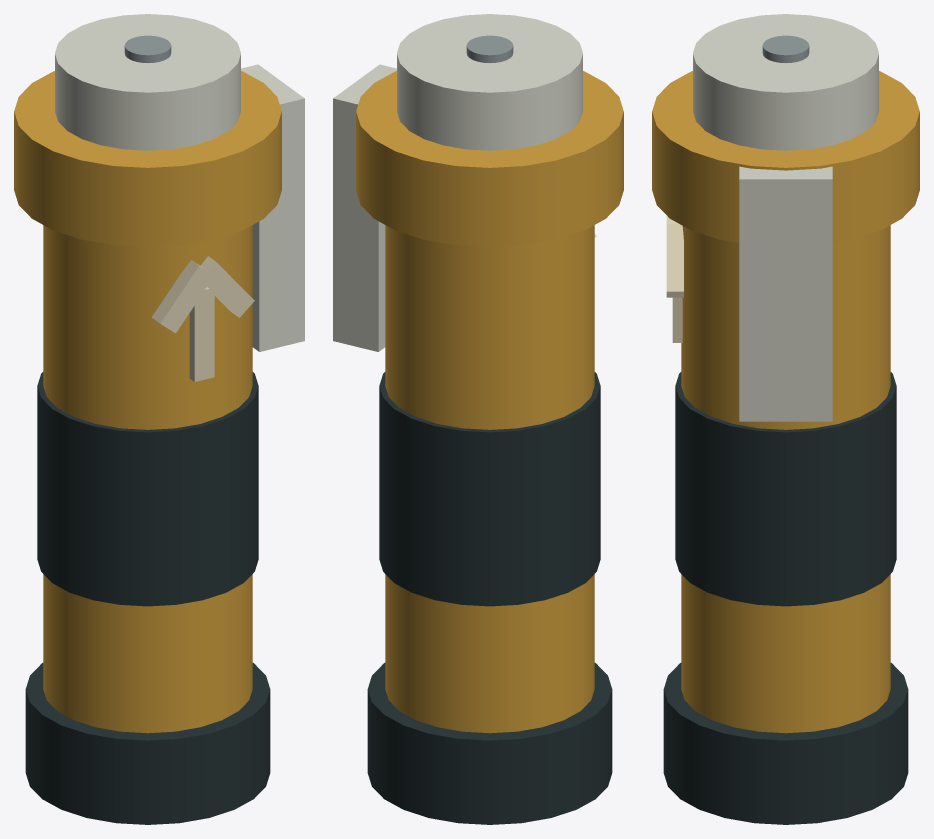
The model's file is FSA_ITEM_Consumable_003_Adrenaline.glb.
3 views of the same model, side by side, from view 1: azimuth 30°, elevation 25°; view 2: azimuth 150°, elevation 25°; view 3: azimuth 270°, elevation 25° (orthographic).
Visible parts, largest first — view 1: InjectorBody, WaistBand, TriggerCollar, BaseCap, ContactHead, SafetyClip, ArrowStem, ArrowLeft, ArrowRight, ContactDot; view 2: InjectorBody, WaistBand, TriggerCollar, BaseCap, ContactHead, SafetyClip, ContactDot; view 3: InjectorBody, WaistBand, BaseCap, SafetyClip, TriggerCollar, ContactHead, ArrowRight, ContactDot, ArrowStem.
Part boxes in pixels (x1,y1,x2,y2): InjectorBody: (43, 225, 252, 733); WaistBand: (37, 372, 258, 606); TriggerCollar: (14, 71, 281, 246); BaseCap: (25, 663, 270, 824); ContactHead: (55, 14, 240, 150); SafetyClip: (241, 64, 304, 351); ArrowStem: (189, 287, 214, 381); ArrowLeft: (151, 260, 214, 333); ArrowRight: (200, 256, 254, 317); ContactDot: (124, 35, 171, 62); InjectorBody: (385, 225, 594, 733); WaistBand: (379, 372, 600, 606); TriggerCollar: (356, 71, 623, 246); BaseCap: (367, 663, 612, 824); ContactHead: (397, 14, 582, 150); SafetyClip: (333, 64, 396, 351); ContactDot: (466, 35, 513, 62); InjectorBody: (681, 225, 890, 733); WaistBand: (675, 372, 896, 606); BaseCap: (663, 663, 908, 824); SafetyClip: (739, 166, 832, 421); TriggerCollar: (652, 71, 919, 242); ContactHead: (693, 14, 878, 150); ArrowRight: (666, 224, 683, 297); ContactDot: (762, 35, 809, 62); ArrowStem: (672, 297, 682, 342).
Size of the model in its own units: 0.0495 by 0.138 by 0.046.
